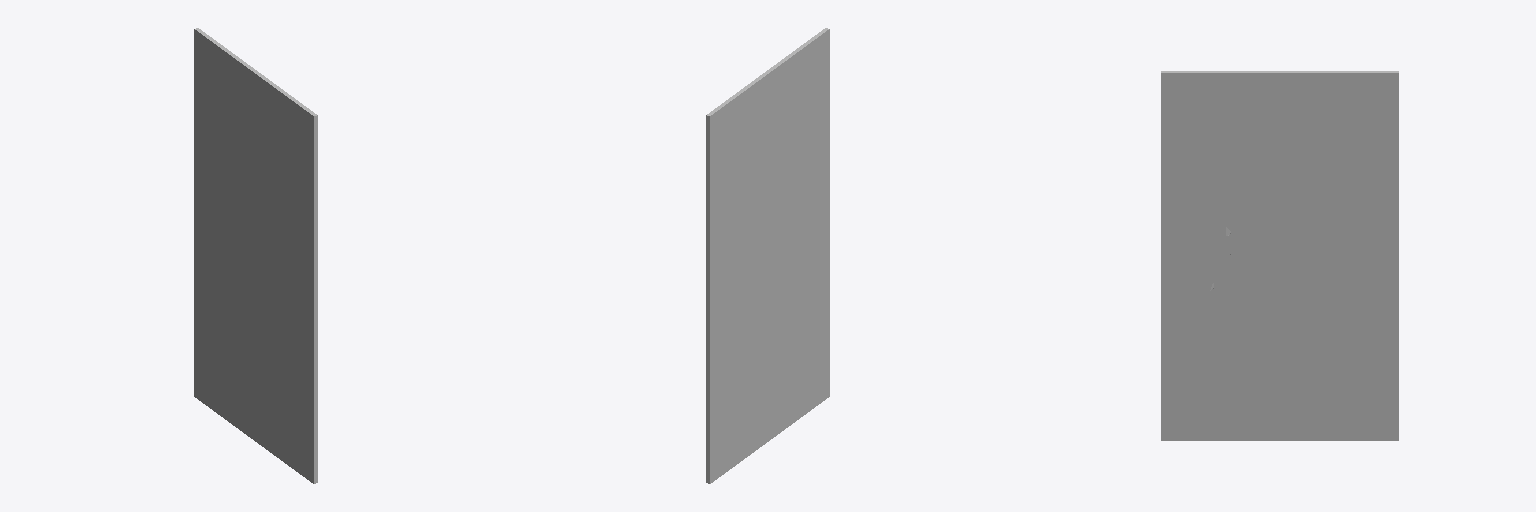
The picture shows the model from 3 angles: view 1: azimuth 30°, elevation 25°; view 2: azimuth 150°, elevation 25°; view 3: azimuth 270°, elevation 25°; orthographic projection.
Parts seen in each view (by area): view 1: back13_zoetrope.671; view 2: back13_zoetrope.671; view 3: back13_zoetrope.671.
Boxes of the visible parts, x1=… form: back13_zoetrope.671: x1=194, y1=28, x2=317, y2=483; back13_zoetrope.671: x1=706, y1=28, x2=829, y2=483; back13_zoetrope.671: x1=1161, y1=71, x2=1398, y2=440.
Size of the model in its own units: 0.0109 by 0.9246 by 0.5439.